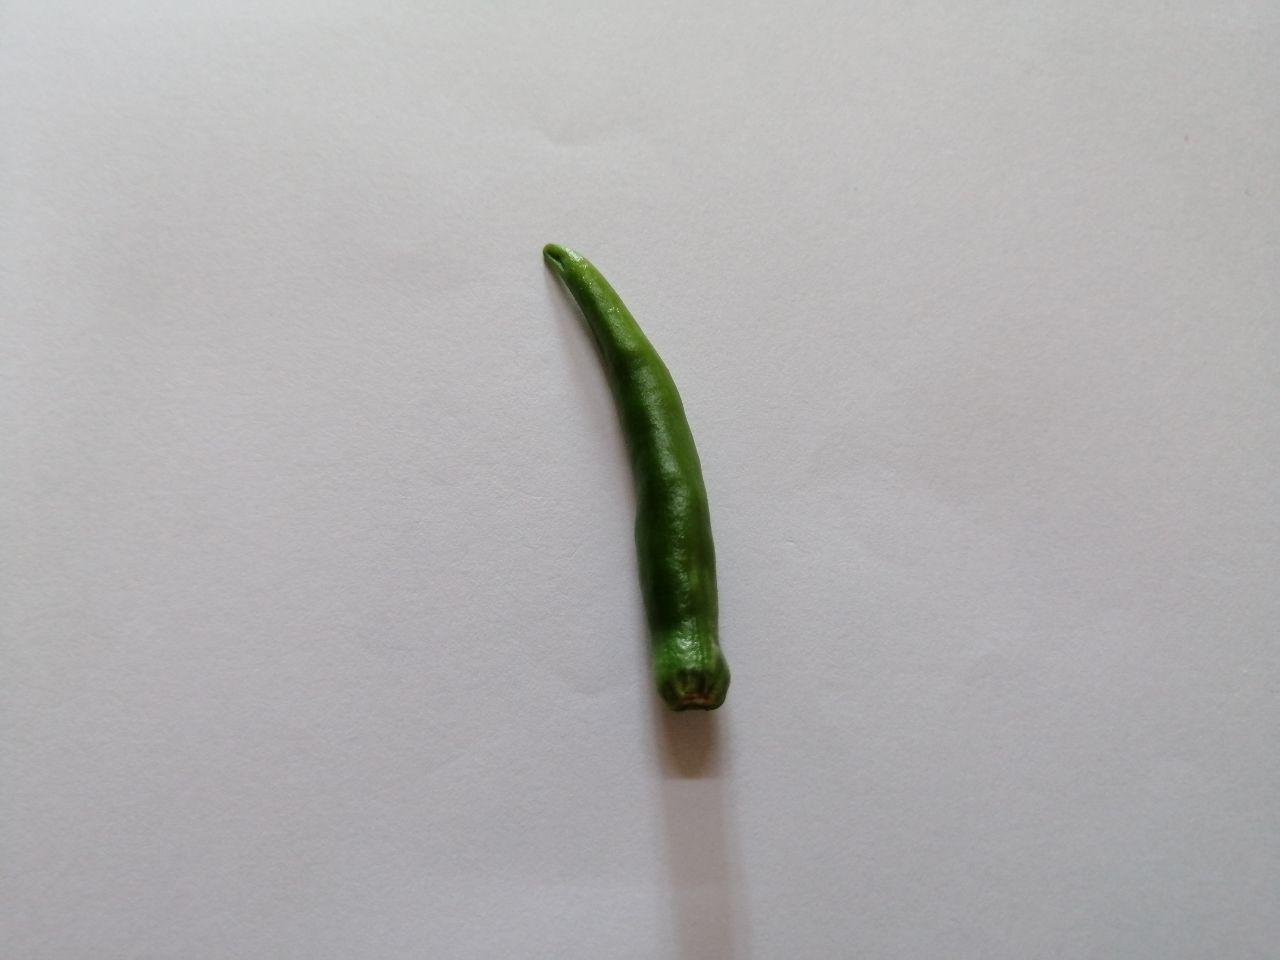lada hijau: (522, 237, 756, 717)
